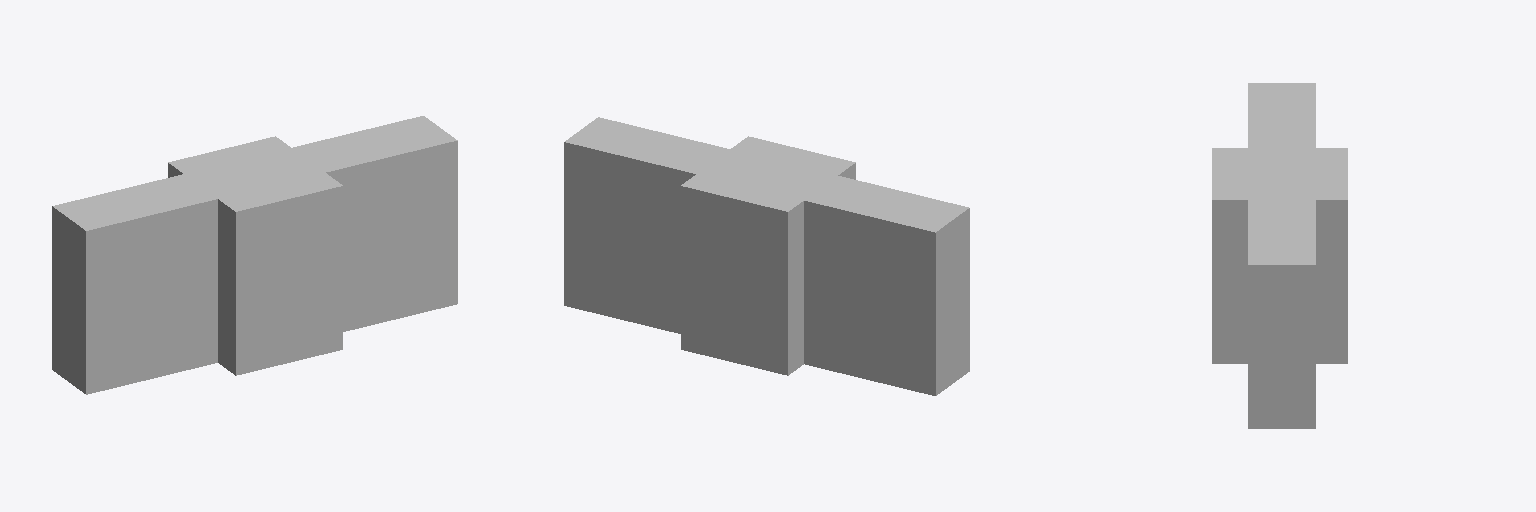
File: Floor 1_1.obj
The picture shows the model from 3 angles: view 1: azimuth 30°, elevation 25°; view 2: azimuth 150°, elevation 25°; view 3: azimuth 270°, elevation 25°; orthographic projection.
Visible parts, largest first — view 1: Cube.002; view 2: Cube.002; view 3: Cube.002.
Part boxes in pixels (bbox=[...]): Cube.002: bbox=[52, 116, 457, 394]; Cube.002: bbox=[564, 117, 969, 395]; Cube.002: bbox=[1212, 83, 1347, 428].
Size of the model in its own units: 55.8 by 23.52 by 17.62.